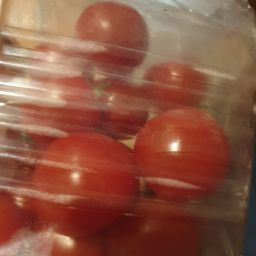Pea tomatoes: (31, 137, 140, 236), (129, 109, 231, 211), (44, 73, 155, 138), (71, 5, 161, 85), (141, 65, 213, 117)
